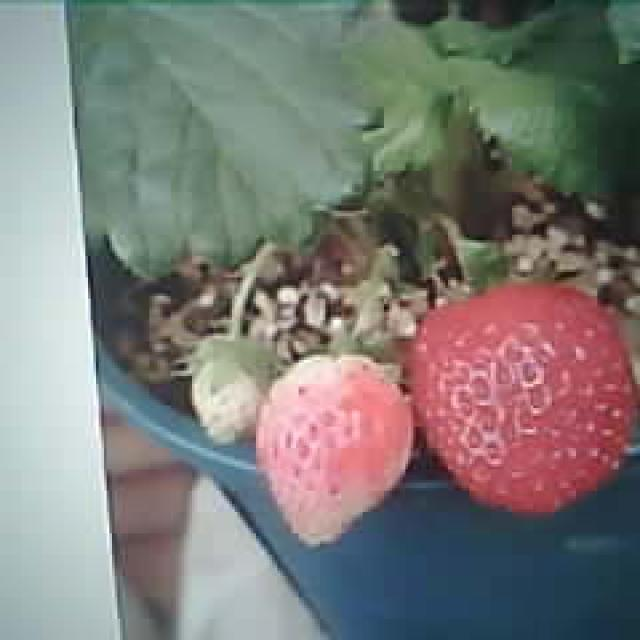ripe: (411, 286, 639, 510)
